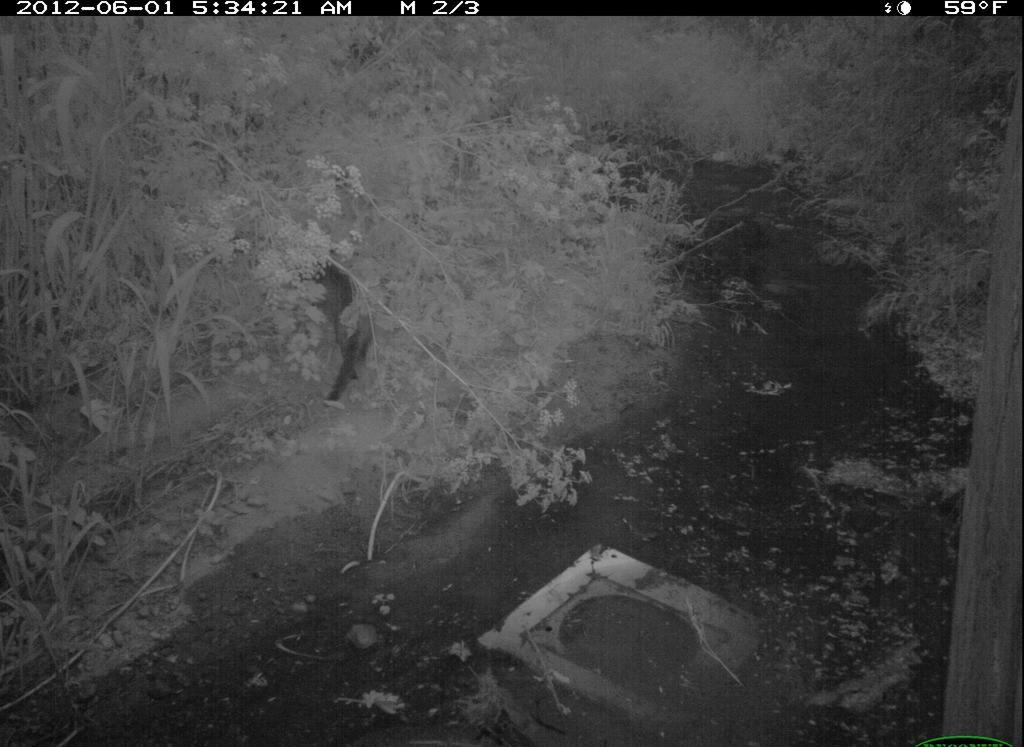cat: (295, 239, 386, 408)
